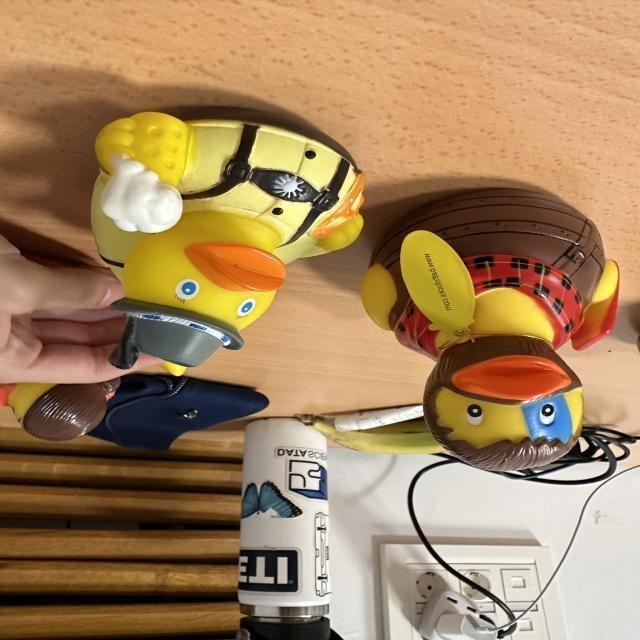rubber-duck: (362, 187, 617, 469), (91, 111, 363, 366)
